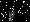person: (11, 8, 21, 22)
